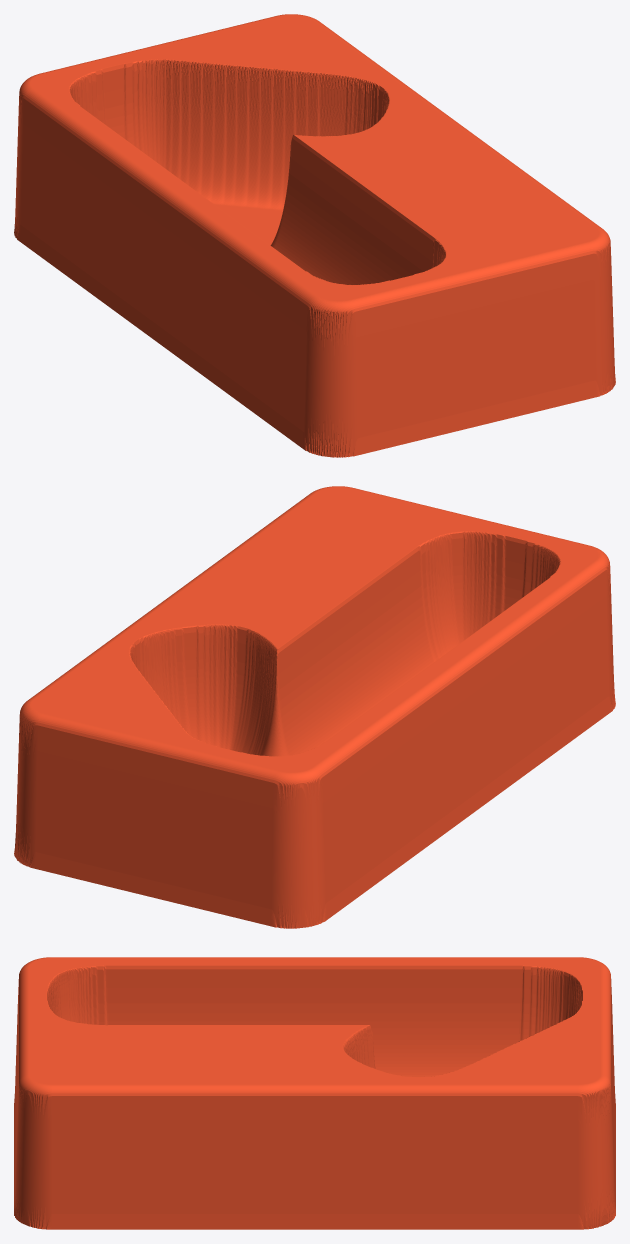
Rendered from mold.glb.
3 renders of one model, top to bottom at view 1: azimuth 30°, elevation 25°; view 2: azimuth 150°, elevation 25°; view 3: azimuth 270°, elevation 25°, orthographic. The views are drawn at different scales.
Parts seen in each view (by area): view 1: geometry_0; view 2: geometry_0; view 3: geometry_0.
Part boxes in pixels (<box>): geometry_0: <box>14,14,615,457</box>; geometry_0: <box>14,486,615,928</box>; geometry_0: <box>14,957,615,1229</box>.
Bounding box in the file's own units: 0.0785 × 0.0365 × 0.1435.
